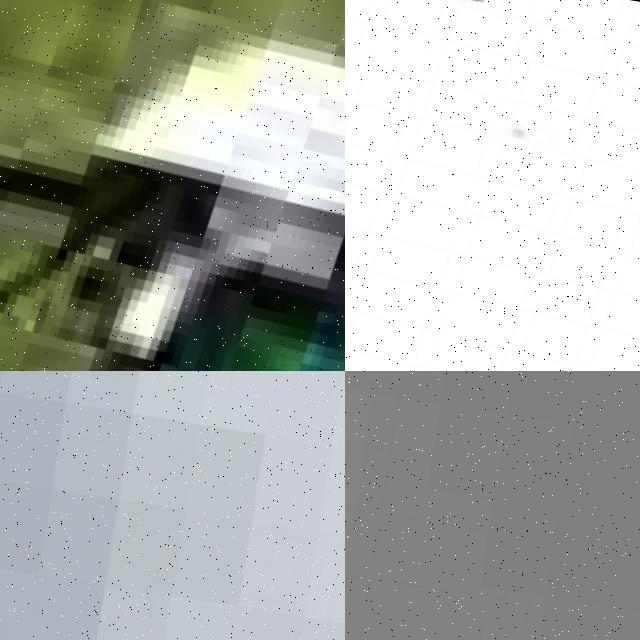drone: (0, 0, 345, 371), (345, 0, 640, 371)
